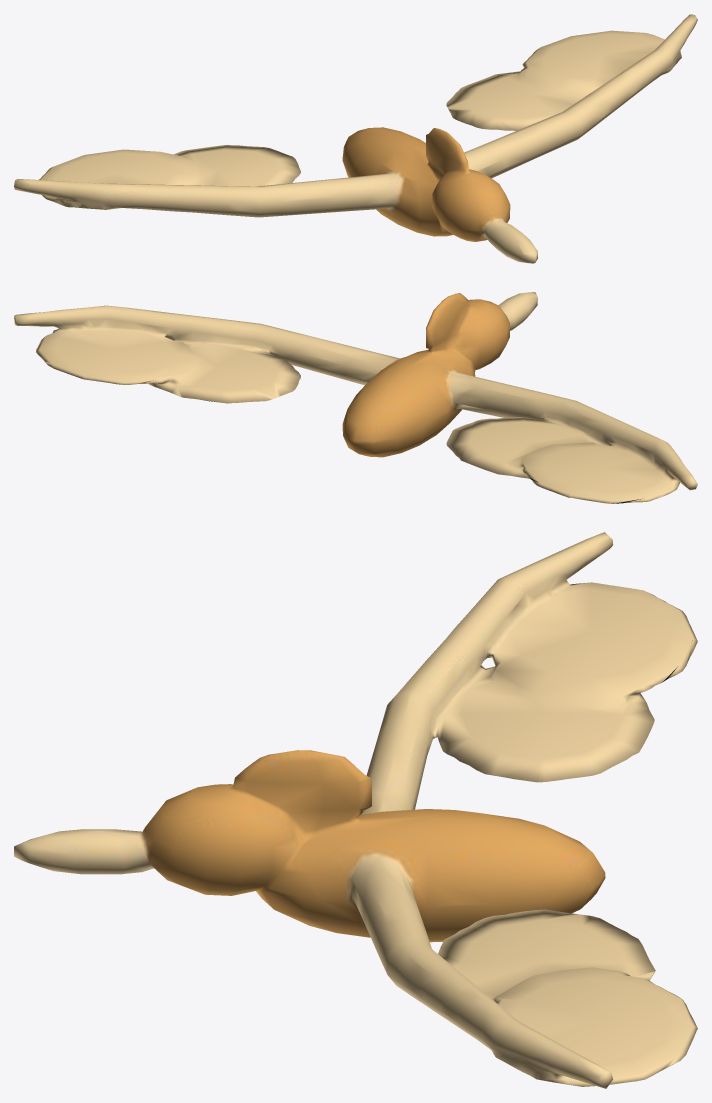
The model's file is ptero.glb.
3 renders of one model, top to bottom at view 1: azimuth 30°, elevation 25°; view 2: azimuth 150°, elevation 25°; view 3: azimuth 270°, elevation 25°, orthographic. The views are drawn at different scales.
Visible parts, largest first — view 1: ptero; view 2: ptero; view 3: ptero.
Boxes of the visible parts, bbox=[...] form: ptero: bbox=[14, 14, 697, 263]; ptero: bbox=[14, 292, 697, 503]; ptero: bbox=[14, 532, 697, 1088].
Size of the model in its own units: 3.93 by 0.6237 by 2.09.
1 material, 1 textured.
